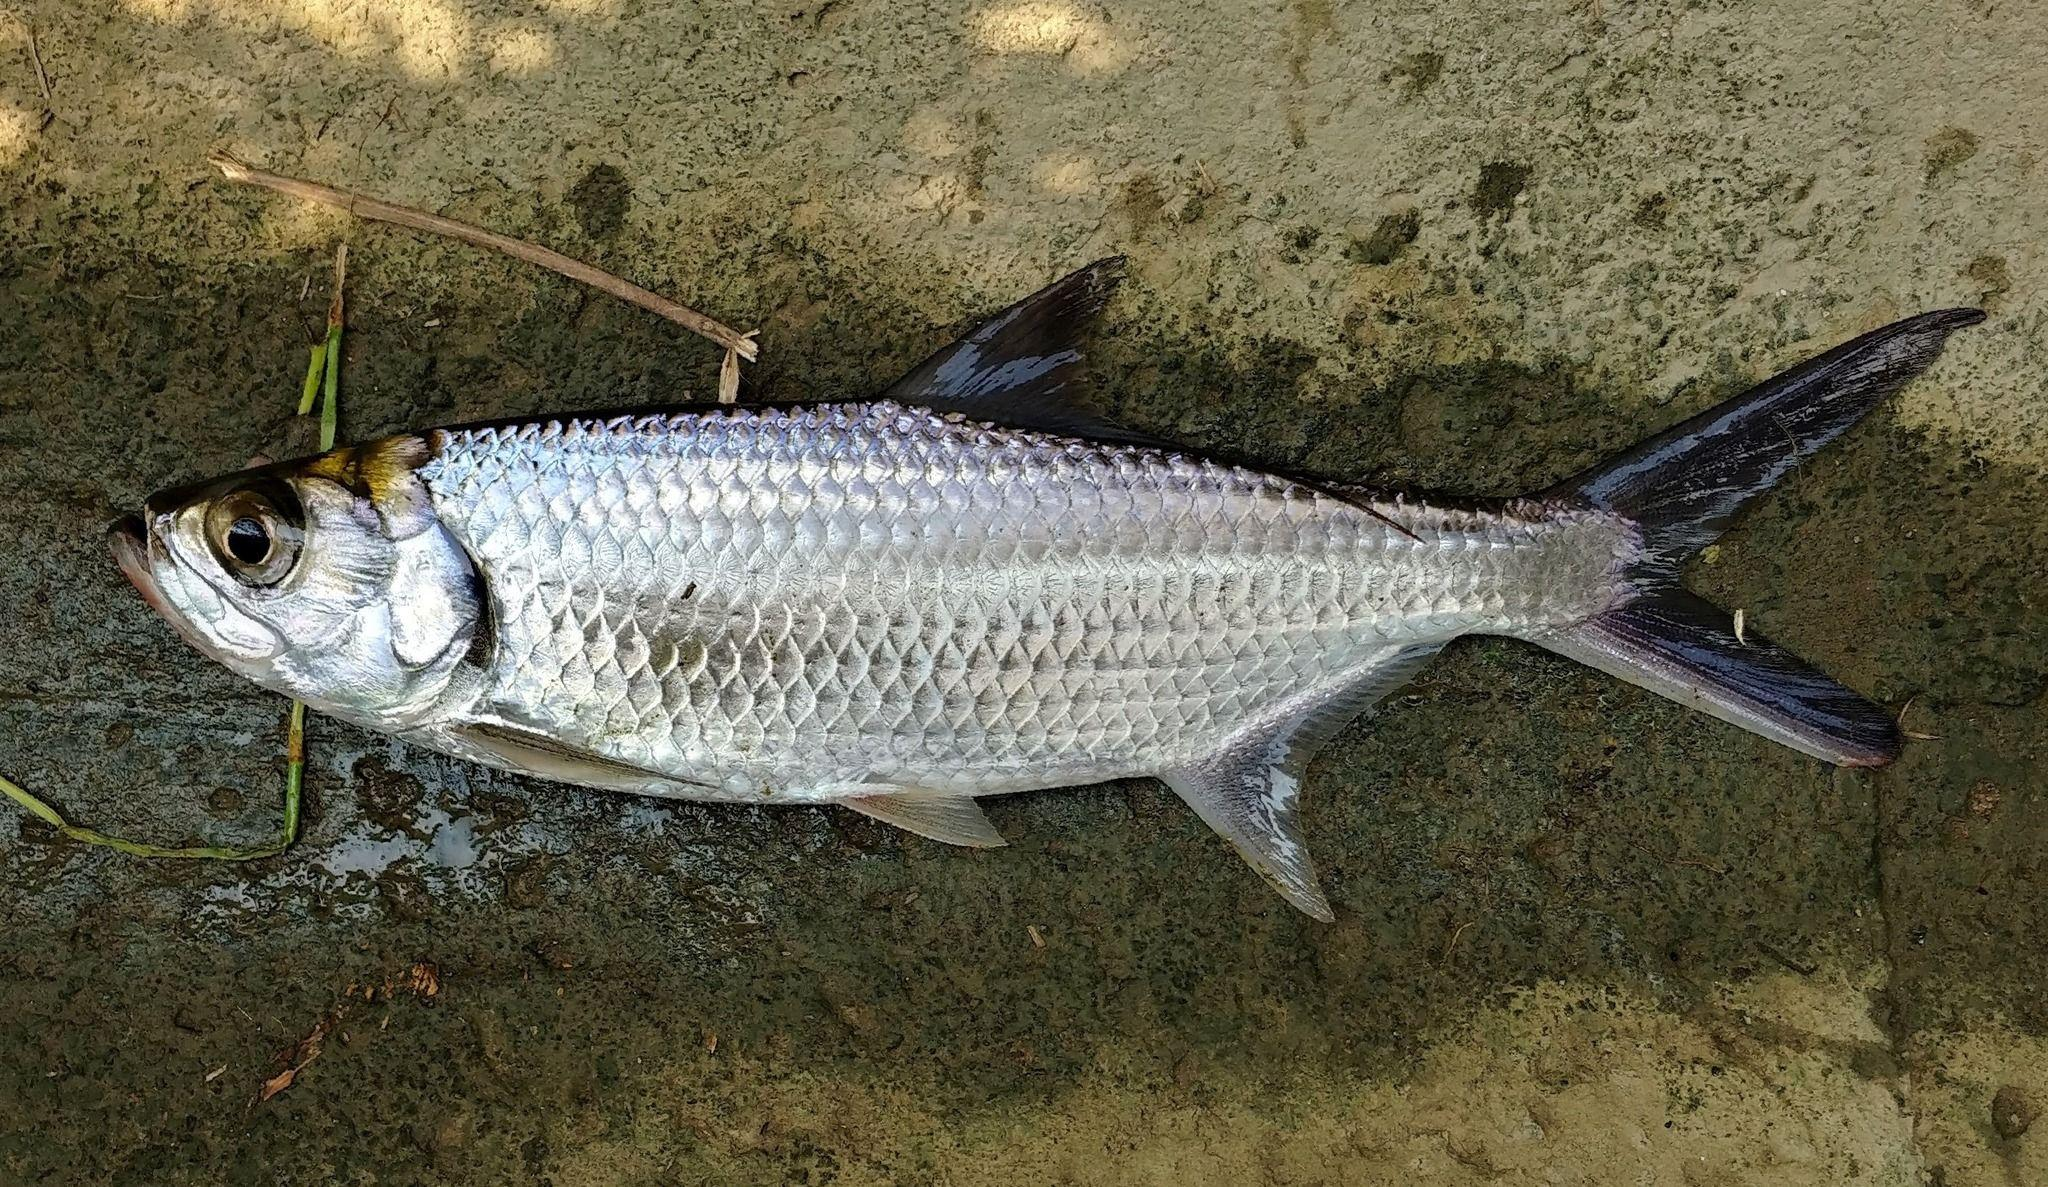Indo-Pacific Tarpon: (114, 260, 1990, 933)
